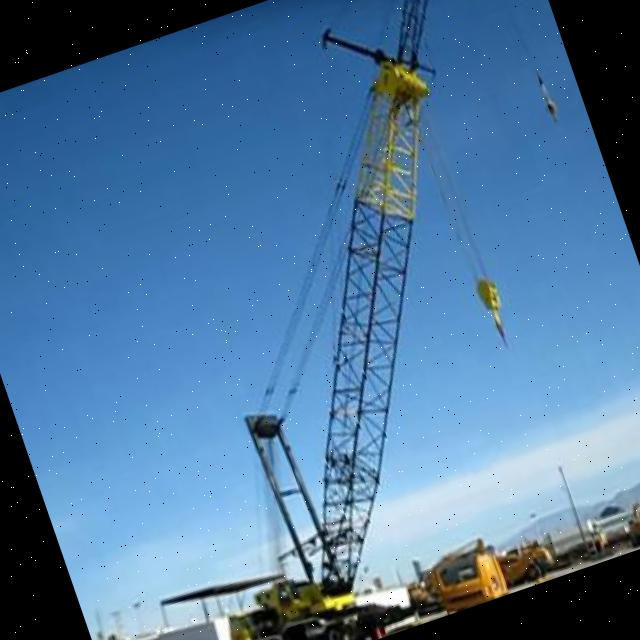Mobile Crane: (34, 0, 640, 640)
